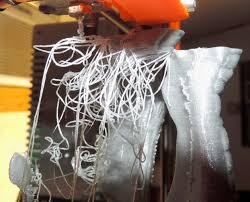fail: (22, 31, 172, 202)
